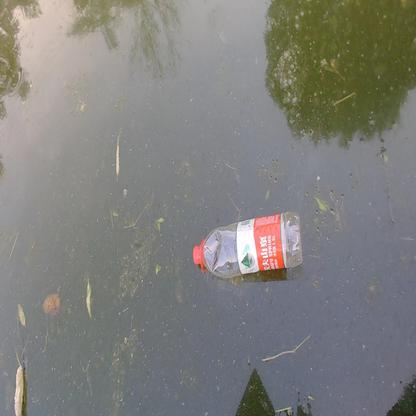plastic bottle: (192, 212, 305, 278)
